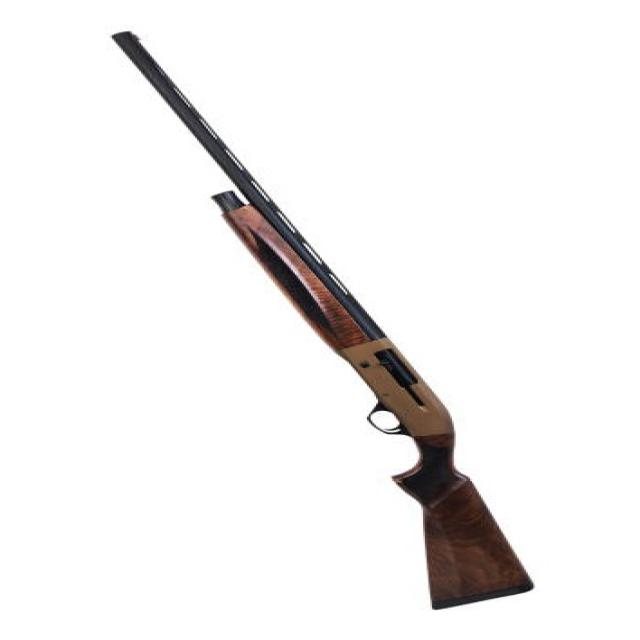rifle: (106, 29, 542, 614)
